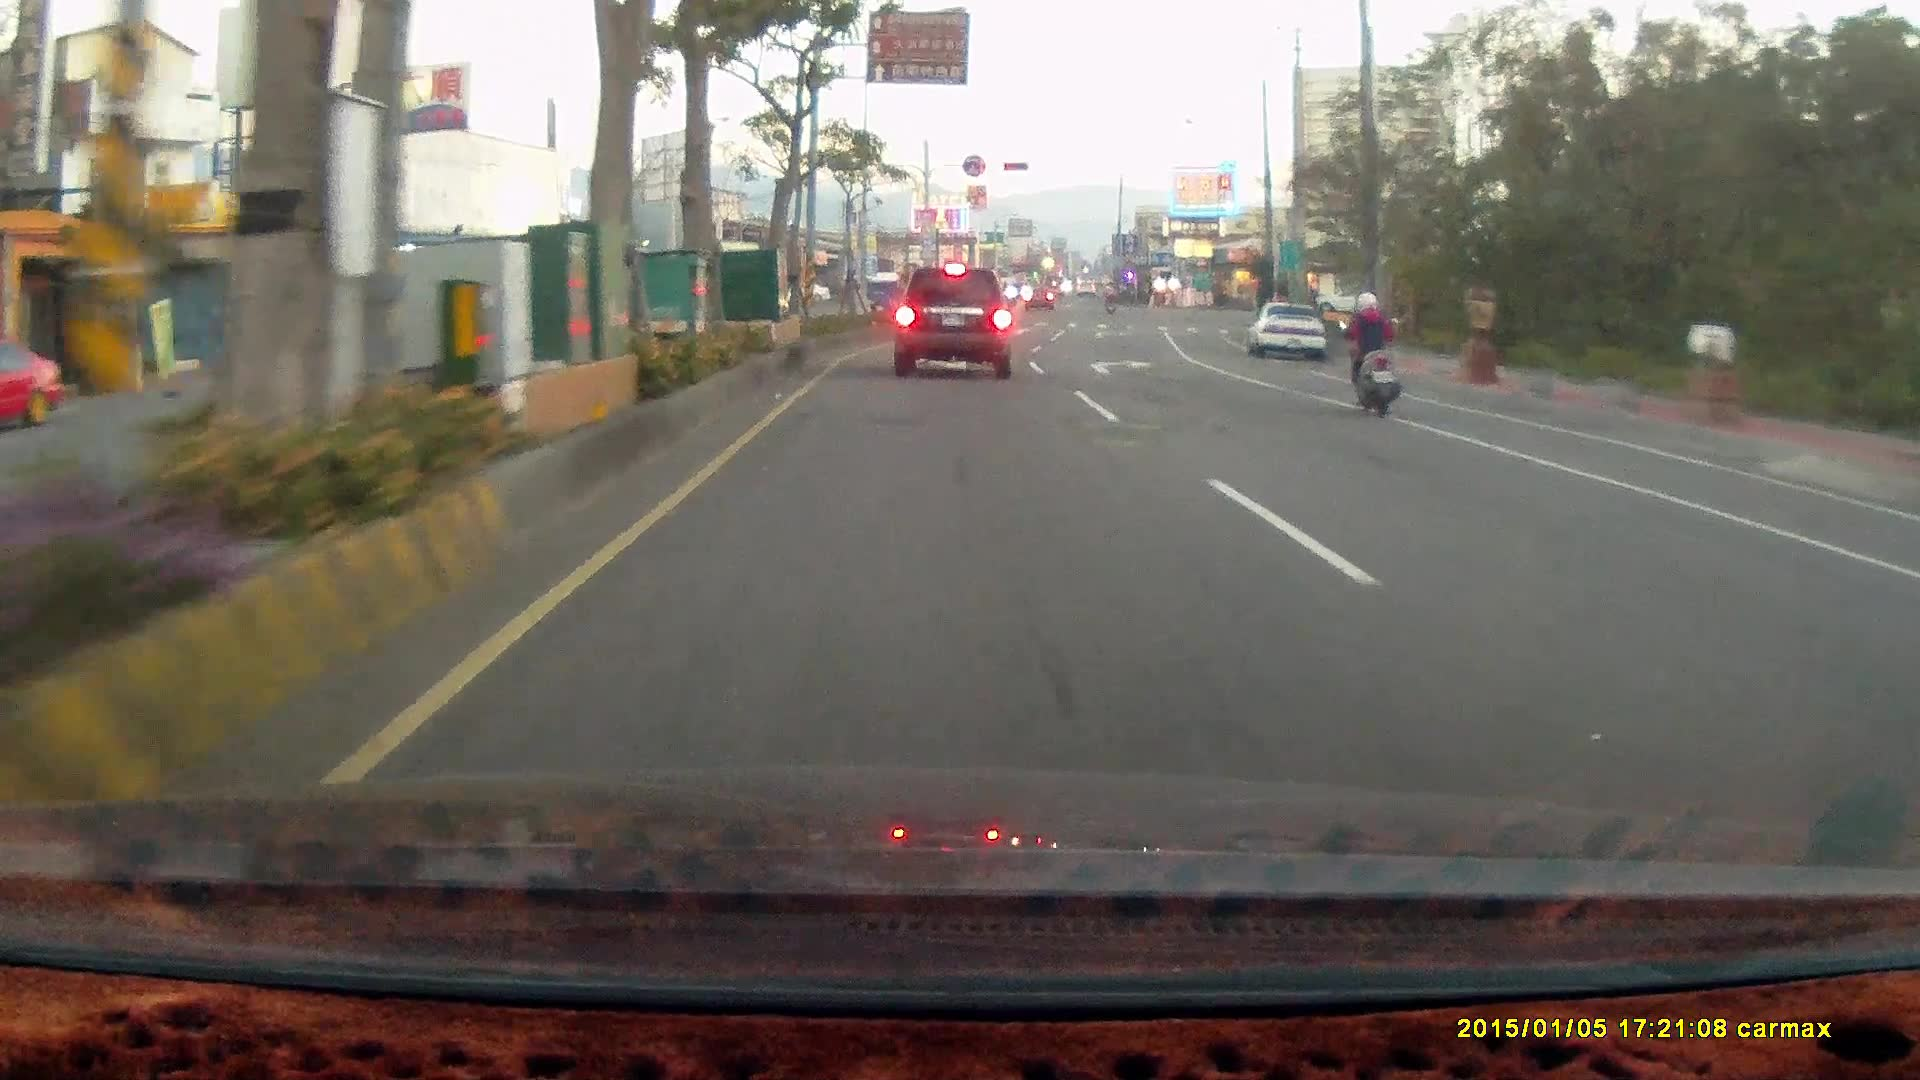rider: (1336, 293, 1401, 421)
vehicle: (891, 265, 1009, 378), (1896, 493, 1920, 836), (1, 338, 66, 435), (1883, 528, 1920, 690), (1244, 299, 1327, 361), (1250, 305, 1328, 362), (1305, 278, 1380, 314)
